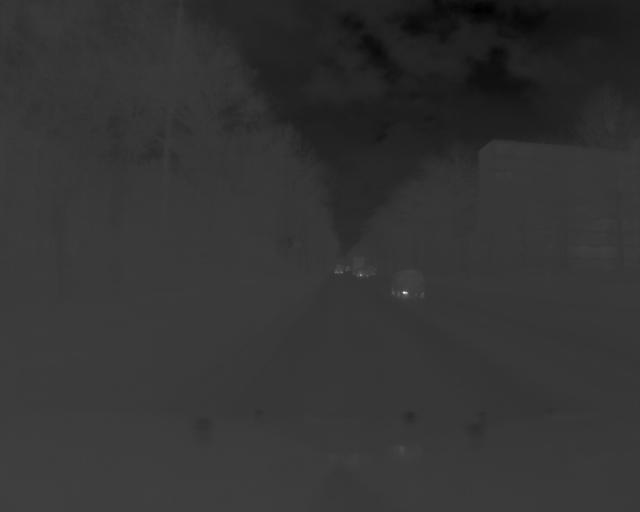car: (389, 266, 429, 300)
